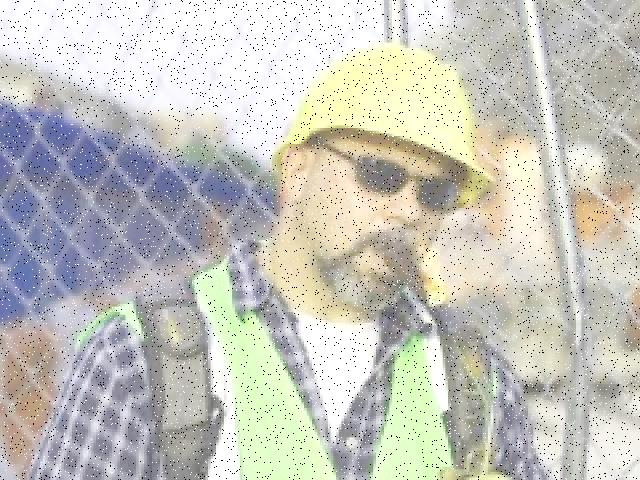Helmet: (266, 32, 506, 196)
